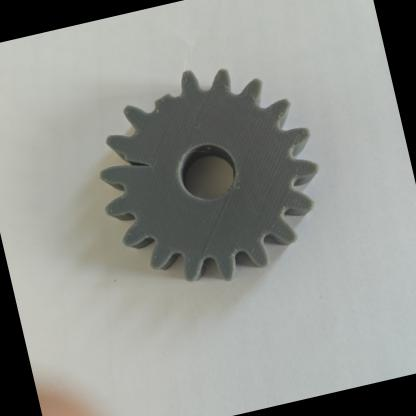defect: (87, 112, 176, 206), (132, 42, 214, 121)
gear: (31, 9, 361, 358)
